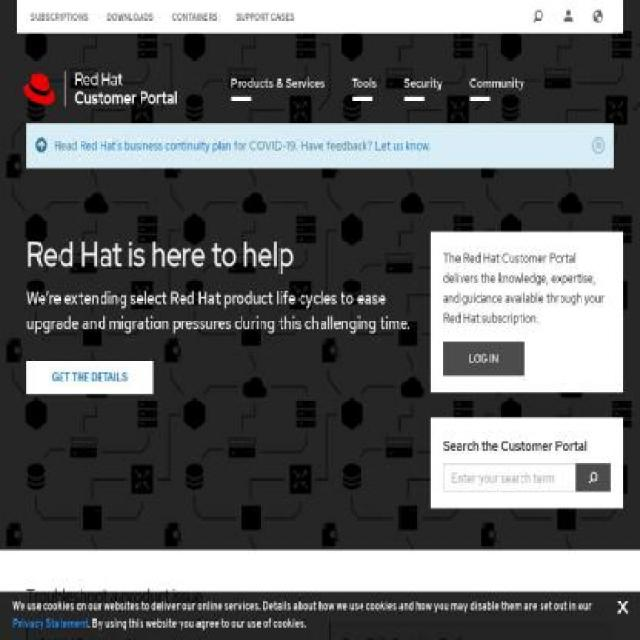button: (223, 58, 345, 109), (26, 621, 310, 640), (329, 621, 613, 640), (26, 360, 154, 395), (461, 58, 537, 109), (397, 58, 461, 109), (442, 342, 524, 376), (344, 58, 396, 109), (227, 1, 302, 33), (22, 1, 96, 33), (98, 1, 162, 33), (164, 1, 225, 33), (524, 1, 551, 33), (554, 1, 581, 33), (584, 1, 611, 33)
field: (442, 464, 576, 491)
